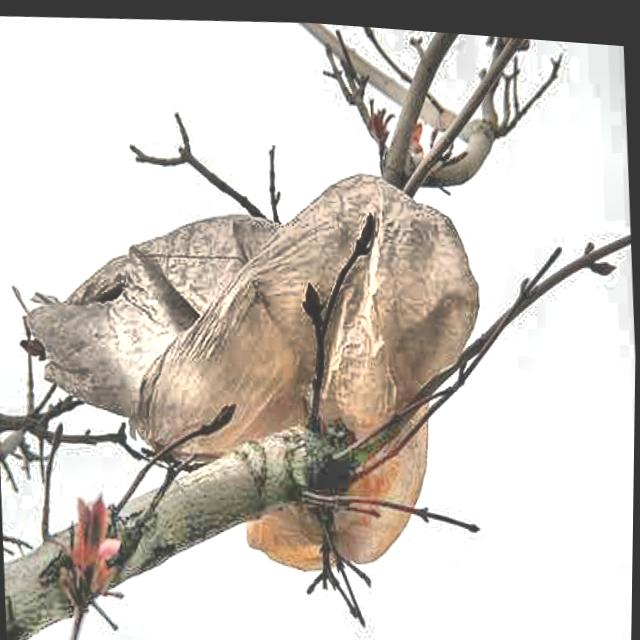Plastic: (13, 114, 492, 595)
